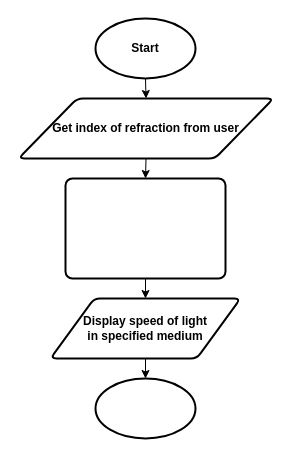
Image size: 291x456. Some labels were removed from this diagram. Here are the shapes that lost their labels. From the top down, the centre of each, then its label:
At (x=145, y=228): "Calculate speed of light in specified medium using the equation: v = c/n".
At (x=145, y=408): "End".
